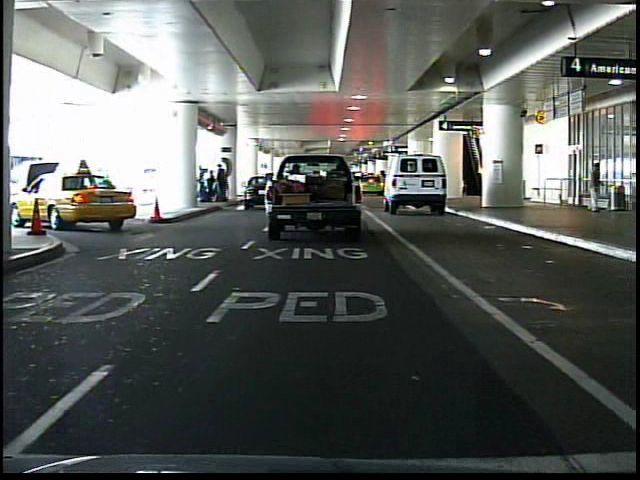person: (583, 160, 606, 216)
